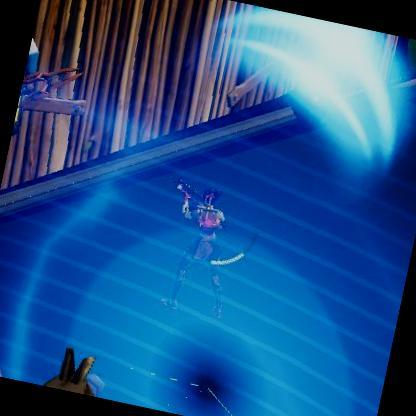person: (166, 181, 248, 315)
